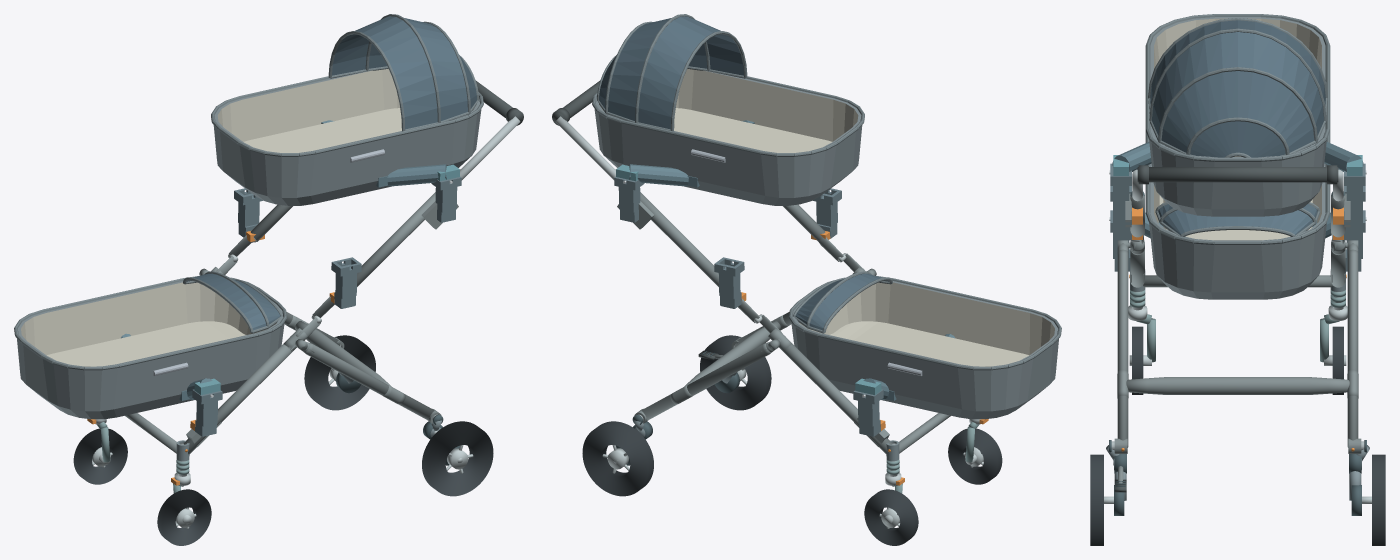
Rendered from D03_w550_state1_wheel_S.glb.
3 renders of one model, left to right at view 1: azimuth 30°, elevation 25°; view 2: azimuth 150°, elevation 25°; view 3: azimuth 270°, elevation 25°, orthographic. The views are drawn at different scales.
Parts seen in each view (by area): view 1: D03_Upper, D03_Lower, RL_tire.002, RR_tire.002, FL_tire.002, FR_tire.002, V46_rear_leg_-1.003, main_lower_-1.003, D03_Upper_Mount_H, main_upper_-1.003, Universal_Cabin_Receiver_M_-1, Universal_Cabin_Receiver_L_-1 (+4 smaller); view 2: D03_Upper, D03_Lower, RR_tire.002, RL_tire.002, FR_tire.002, FL_tire.002, V46_rear_leg_1.003, main_lower_1.003, D03_Upper_Mount_H, main_upper_1.003, Universal_Cabin_Receiver_M_1, Universal_Cabin_Receiver_L_1 (+4 smaller); view 3: D03_Upper, D03_Lower, V46_rearbar.003, round_handle.002, V46_rear_leg_1.003, V46_rear_leg_-1.003, D03_Upper_Mount_H, RL_tire.002, RR_tire.002, Universal_Cabin_Receiver_H_1, Universal_Cabin_Receiver_H_-1, FL_tire.002 (+6 smaller).
Part boxes in pixels (bbox=[...]): D03_Upper: bbox=[211, 14, 483, 205]; D03_Lower: bbox=[14, 271, 286, 419]; RL_tire.002: bbox=[422, 421, 493, 496]; RR_tire.002: bbox=[304, 335, 375, 410]; FL_tire.002: bbox=[157, 489, 211, 545]; FR_tire.002: bbox=[73, 428, 127, 484]; V46_rear_leg_-1.003: bbox=[304, 343, 434, 420]; main_lower_-1.003: bbox=[183, 344, 295, 454]; D03_Upper_Mount_H: bbox=[321, 120, 459, 187]; main_upper_-1.003: bbox=[357, 192, 435, 286]; Universal_Cabin_Receiver_M_-1: bbox=[331, 257, 361, 308]; Universal_Cabin_Receiver_L_-1: bbox=[192, 389, 222, 436]; D03_Upper: bbox=[592, 14, 864, 205]; D03_Lower: bbox=[789, 271, 1061, 419]; RR_tire.002: bbox=[582, 421, 653, 496]; RL_tire.002: bbox=[700, 335, 771, 410]; FR_tire.002: bbox=[864, 489, 918, 545]; FL_tire.002: bbox=[948, 428, 1002, 484]; V46_rear_leg_1.003: bbox=[641, 343, 771, 420]; main_lower_1.003: bbox=[780, 344, 892, 454]; D03_Upper_Mount_H: bbox=[616, 120, 754, 187]; main_upper_1.003: bbox=[640, 192, 718, 286]; Universal_Cabin_Receiver_M_1: bbox=[714, 257, 744, 308]; Universal_Cabin_Receiver_L_1: bbox=[853, 389, 883, 436]; D03_Upper: bbox=[1145, 14, 1330, 216]; D03_Lower: bbox=[1145, 130, 1330, 299]; V46_rearbar.003: bbox=[1126, 377, 1349, 394]; round_handle.002: bbox=[1137, 167, 1338, 182]; V46_rear_leg_1.003: bbox=[1347, 249, 1358, 447]; V46_rear_leg_-1.003: bbox=[1117, 249, 1128, 447]; D03_Upper_Mount_H: bbox=[1109, 142, 1366, 175]; RL_tire.002: bbox=[1090, 454, 1103, 545]; RR_tire.002: bbox=[1372, 454, 1385, 545]; Universal_Cabin_Receiver_H_1: bbox=[1344, 163, 1365, 224]; Universal_Cabin_Receiver_H_-1: bbox=[1110, 163, 1131, 224]; FL_tire.002: bbox=[1132, 326, 1143, 394].
Size of the model in its own units: 1.37 by 1.25 by 0.6471.
